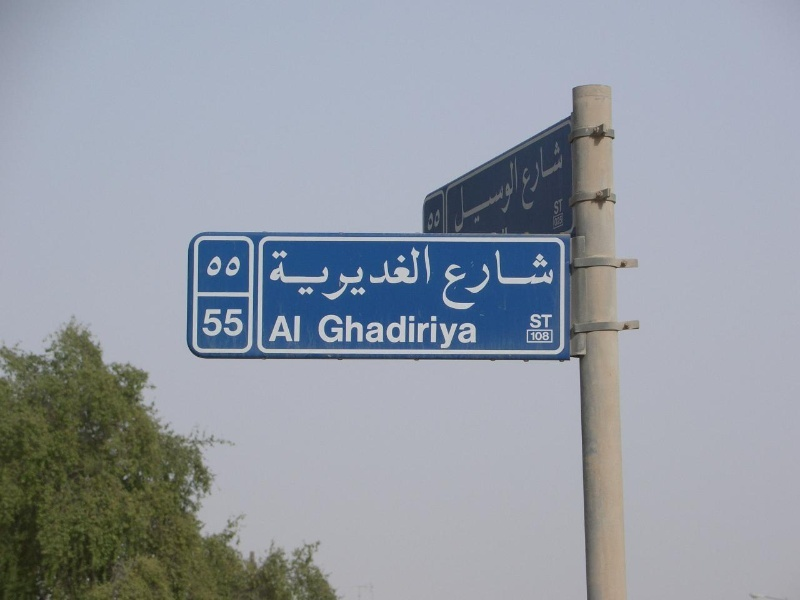text: (529, 126, 544, 223), (545, 126, 560, 223), (465, 157, 480, 239), (481, 157, 496, 239), (497, 157, 512, 239), (516, 126, 528, 223), (449, 249, 464, 312), (465, 249, 480, 312), (481, 249, 496, 312), (497, 249, 512, 312), (513, 249, 528, 312), (529, 249, 544, 312), (273, 244, 288, 303), (289, 244, 304, 303), (305, 244, 320, 303), (321, 244, 336, 303), (337, 244, 352, 303), (353, 244, 368, 303), (369, 244, 384, 303), (385, 244, 400, 303), (401, 244, 416, 303), (417, 244, 432, 303), (513, 157, 522, 239), (545, 249, 556, 312), (321, 314, 336, 349), (337, 314, 352, 349), (353, 314, 368, 349), (369, 314, 384, 349), (385, 314, 400, 349), (401, 314, 416, 349), (417, 314, 432, 349), (433, 314, 448, 349), (449, 314, 464, 349), (465, 314, 478, 349), (441, 249, 448, 312), (209, 309, 224, 337), (225, 309, 240, 337), (209, 255, 224, 279), (225, 255, 240, 279), (289, 316, 301, 343), (267, 244, 272, 303), (561, 126, 564, 223), (278, 316, 288, 343), (461, 157, 464, 239), (433, 207, 442, 231), (530, 314, 544, 329), (202, 309, 208, 337), (552, 198, 560, 215), (545, 314, 553, 329), (531, 332, 544, 341), (317, 314, 320, 349), (241, 255, 245, 279), (428, 207, 432, 231), (554, 214, 560, 229), (561, 198, 566, 215), (241, 309, 244, 337), (545, 332, 550, 341), (561, 214, 564, 229)
